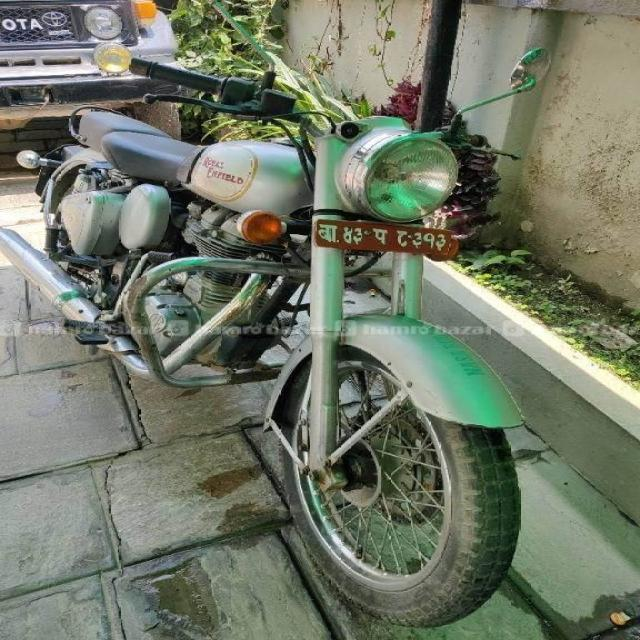License-plate: (287, 218, 473, 262)
